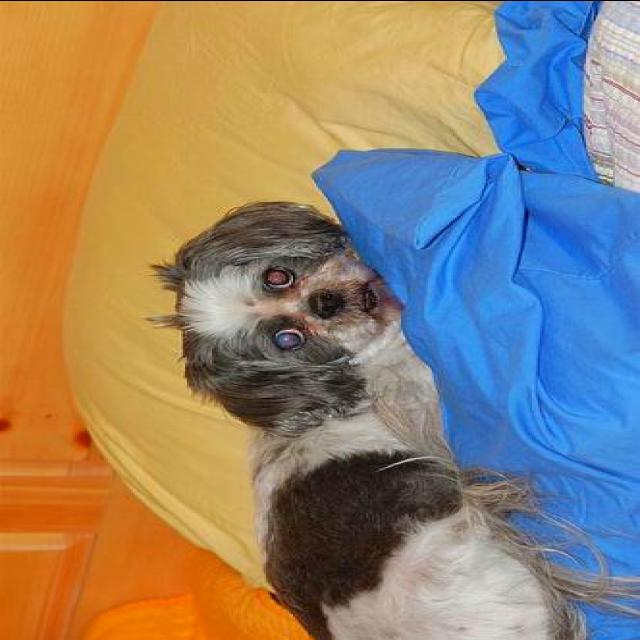shih_tzu: (142, 198, 638, 638)
